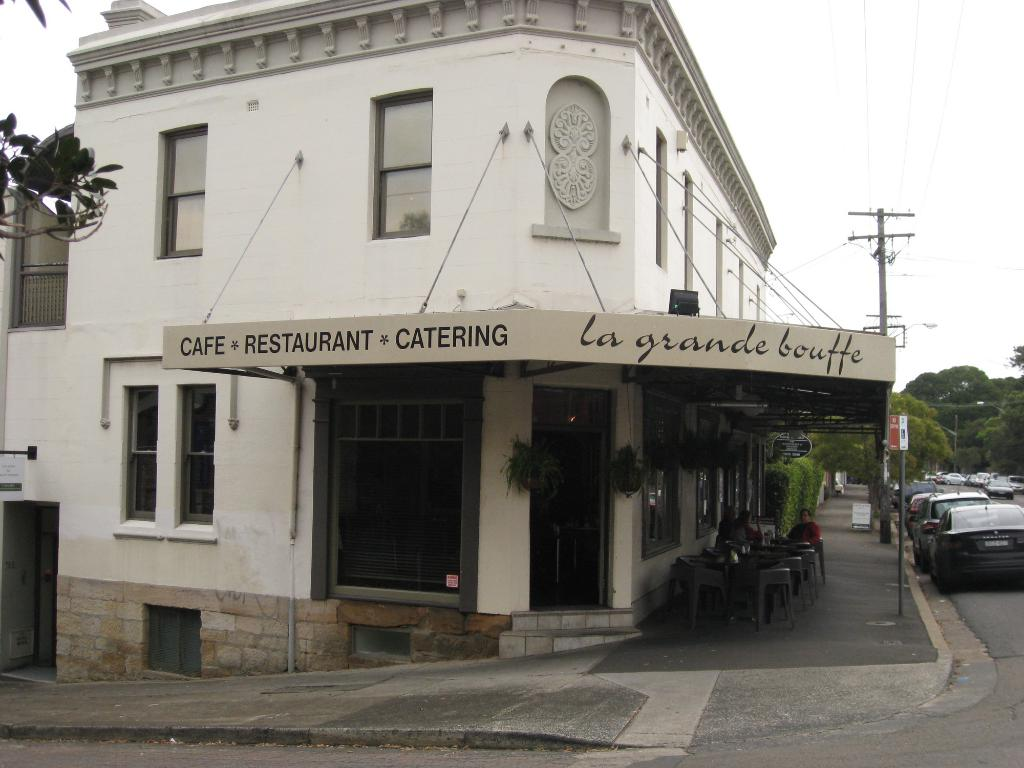Car: (919, 496, 1023, 593), (912, 489, 986, 561), (901, 480, 954, 533), (934, 467, 960, 487), (983, 480, 1012, 497), (965, 469, 996, 483)
